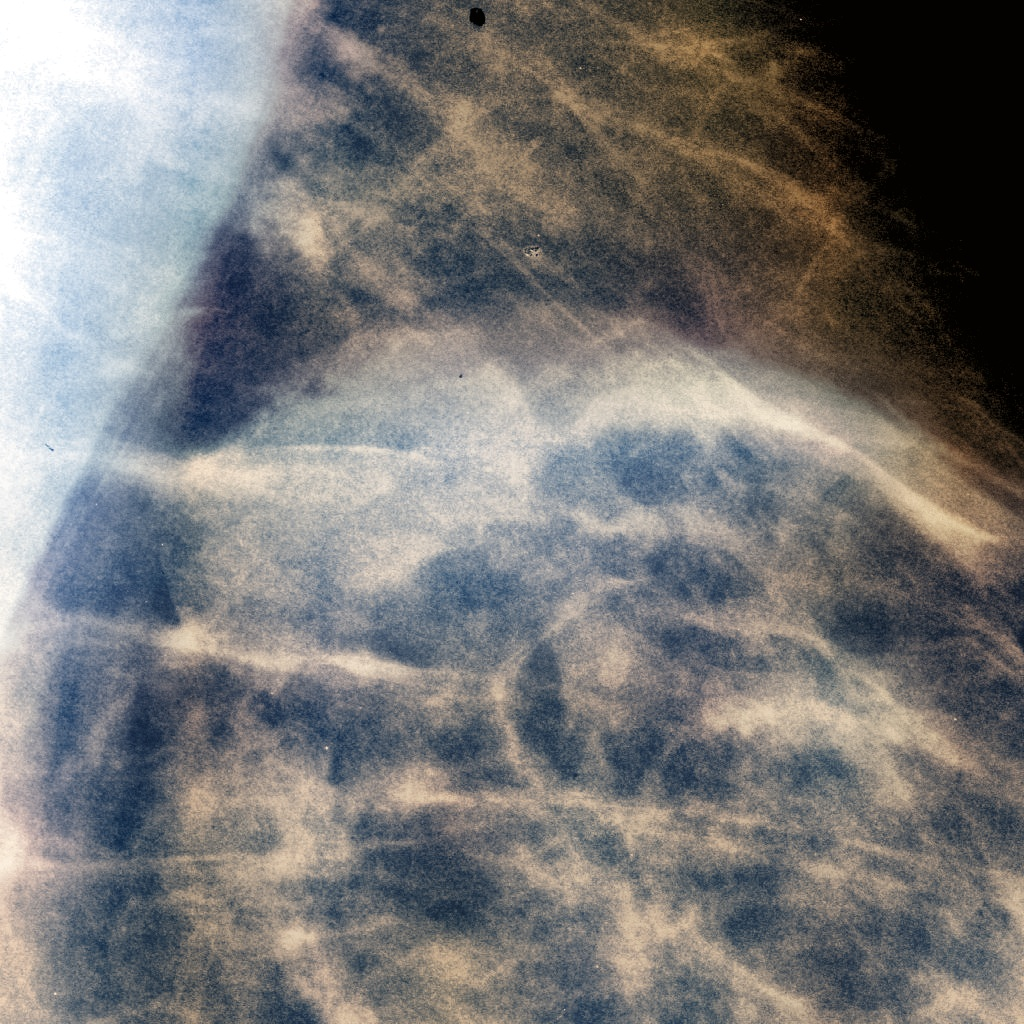tumor: (272, 295, 752, 729)
